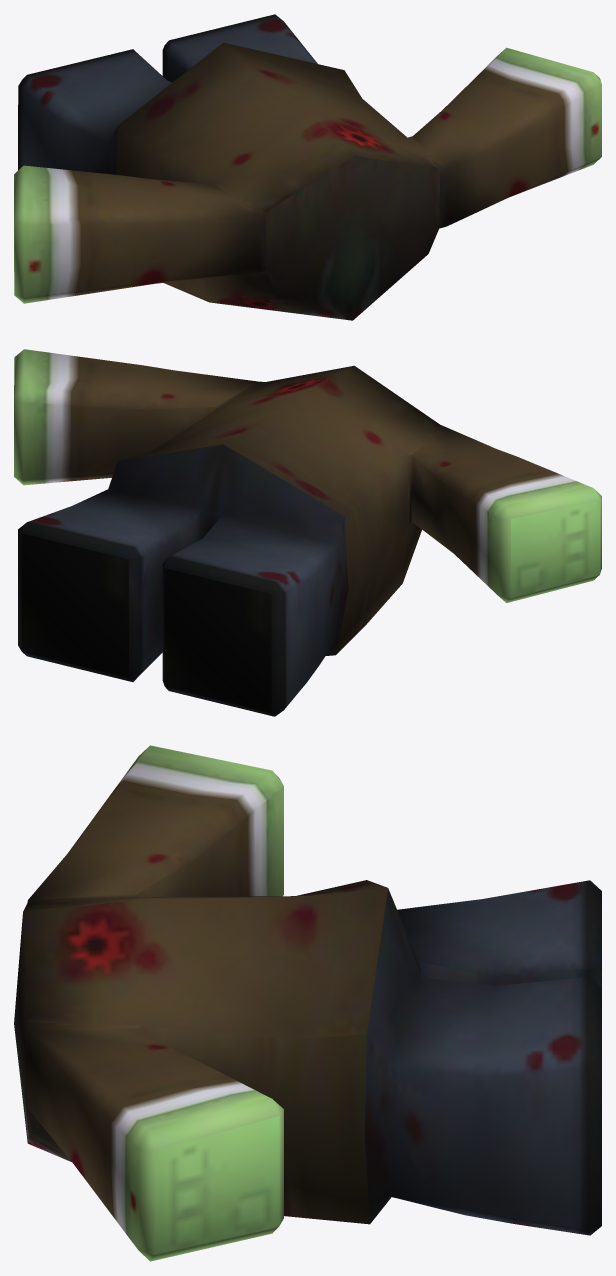
Rendered from Zombie_Normal_H_Body_74b1fa8b__Zombie_Normal_Green_2b2c6731_c1f257.obj.
The picture shows the model from 3 angles, top to bottom: view 1: azimuth 30°, elevation 25°; view 2: azimuth 150°, elevation 25°; view 3: azimuth 270°, elevation 25°; orthographic projection. The views are drawn at different scales.
Bounding box in the file's own units: 1.41 × 0.504 × 0.882.
Materials: 1 (1 with a texture image).
